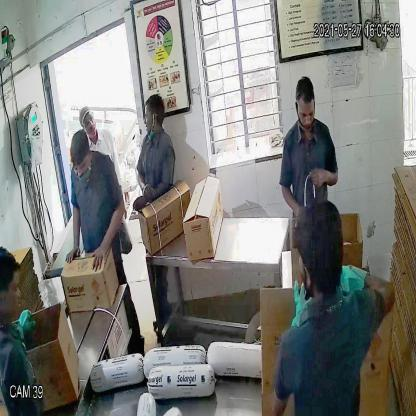no_goggles: (294, 100, 319, 126)
